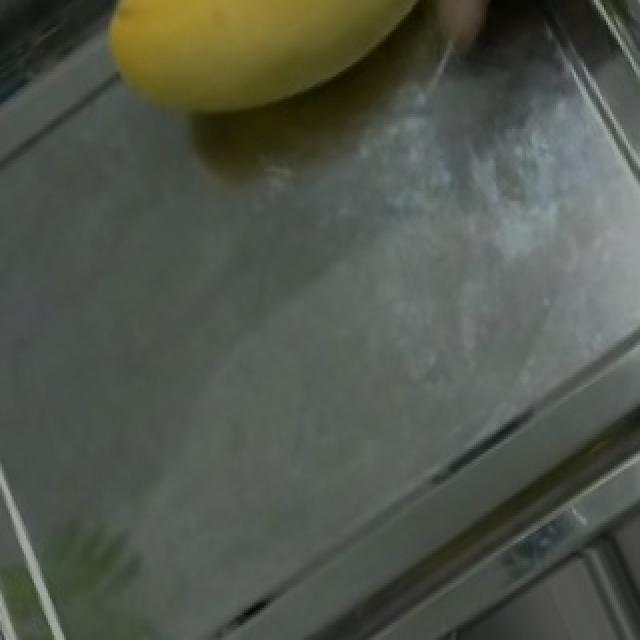fruit: (76, 0, 466, 161)
